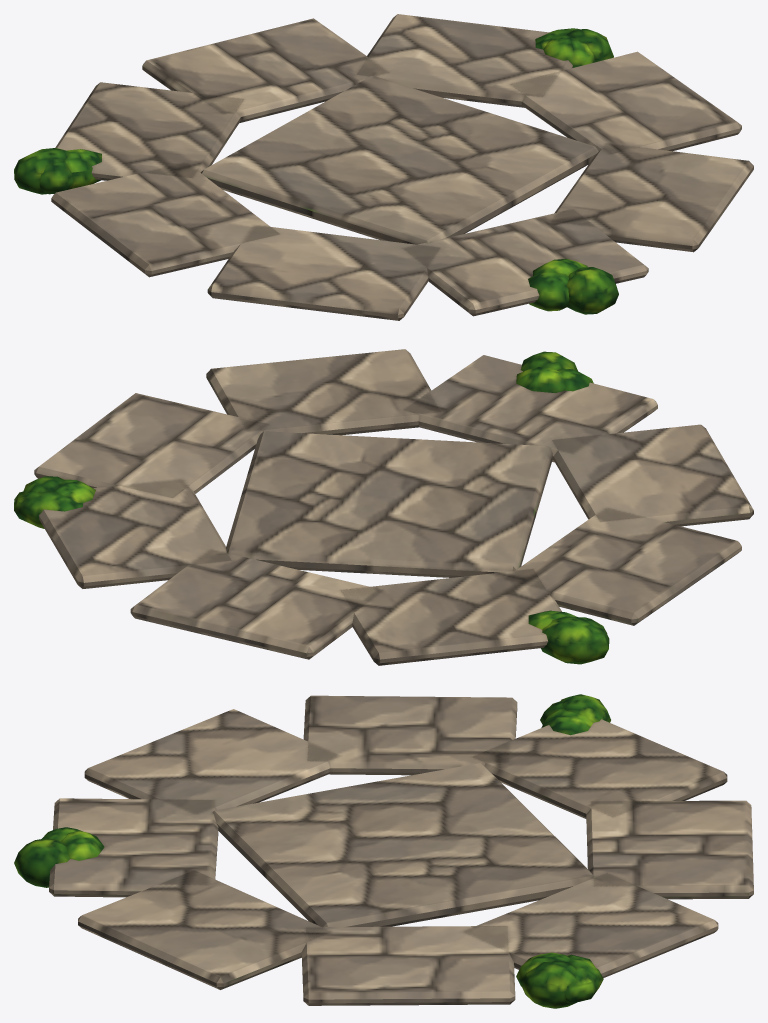
File: mapkit_pad_forest.fbx
3 views of the same model, one above another, from view 1: azimuth 30°, elevation 25°; view 2: azimuth 150°, elevation 25°; view 3: azimuth 270°, elevation 25° (orthographic). The views are drawn at different scales.
Parts seen in each view (by area): view 1: Body; view 2: Body; view 3: Body.
Boxes of the visible parts, box(x1,y1,x2,y2) form: Body: box(14, 14, 753, 320); Body: box(14, 349, 753, 665); Body: box(14, 694, 753, 1008).
Bounding box in the file's own units: 691 × 44.57 × 716.
1 material, 1 textured.
